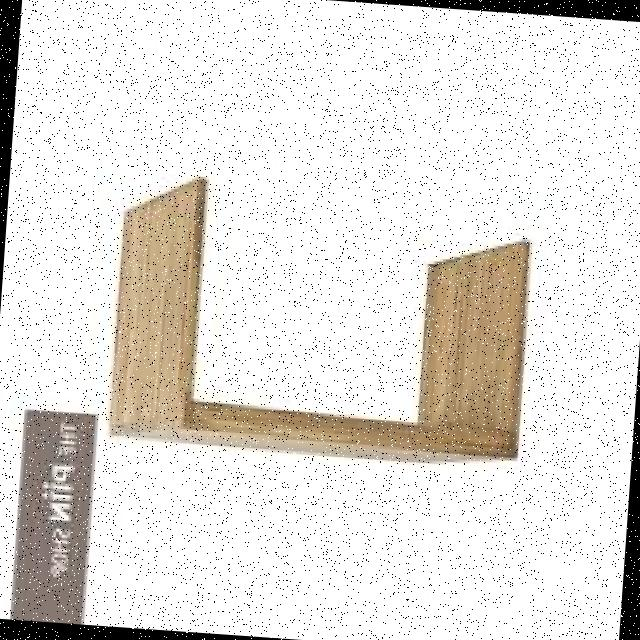Table: (78, 158, 582, 497)
